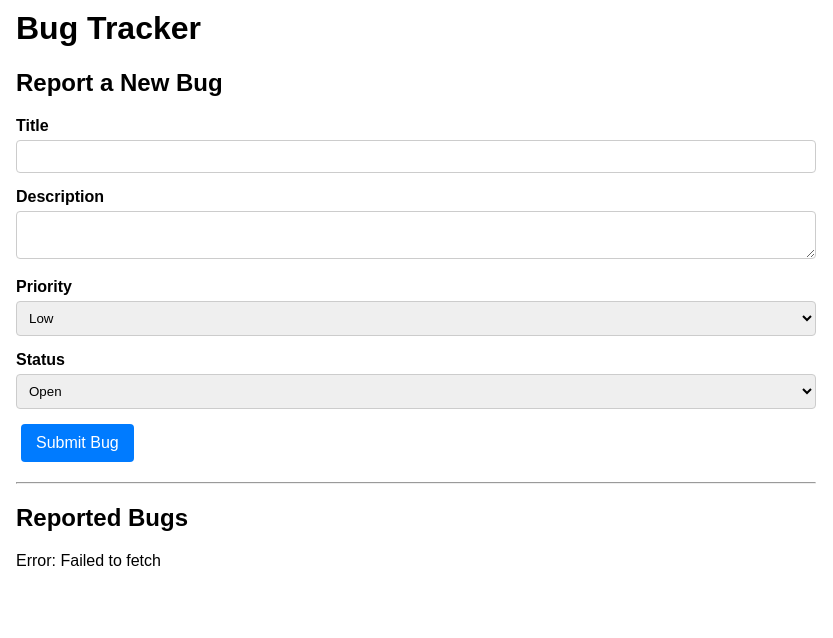
Test: 05 - Visual Property Testing › should verify the CSS properties of the error message
# Force the error to appear
What coordinates should you click on to do the following:
click the button with test id "submit-button"
I would click on:
 (78, 443)
Its box is left=21, top=424, right=134, bottom=462.
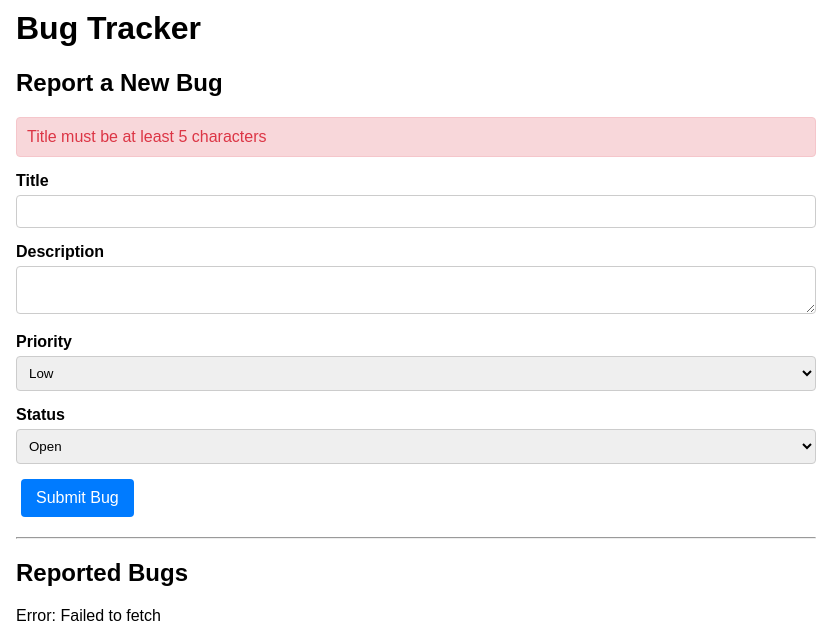
Result: the message "Title must be at least 5 characters" is shown at left=16, top=117, right=816, bottom=157
